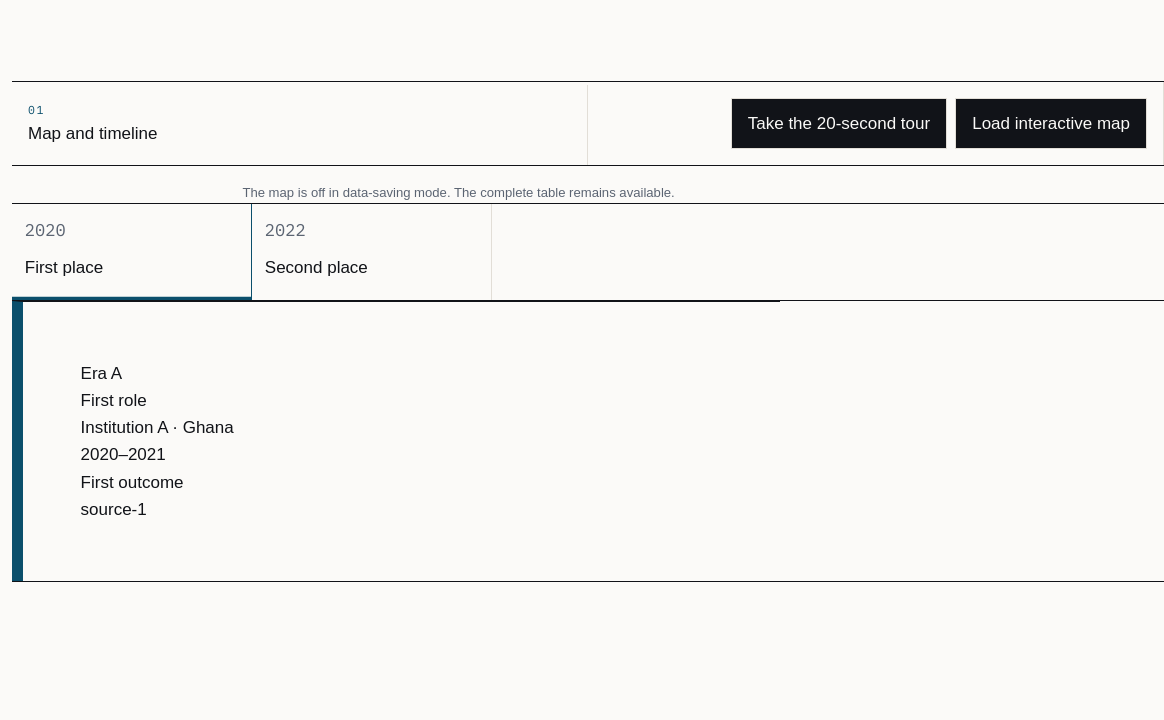
Test: AtlasExplorer › keeps the map opt-in under Lite mode while timeline selection updates detail
This screenshot has width=1164, height=720.
Check: the text "map is off in data-saving mode" is shown, box [242,185,675,200]
Check: the button "Load interactive map" is shown, box [955,98,1147,149]
Click the button "2022 Second place": (372, 252) [252,204,492,300]
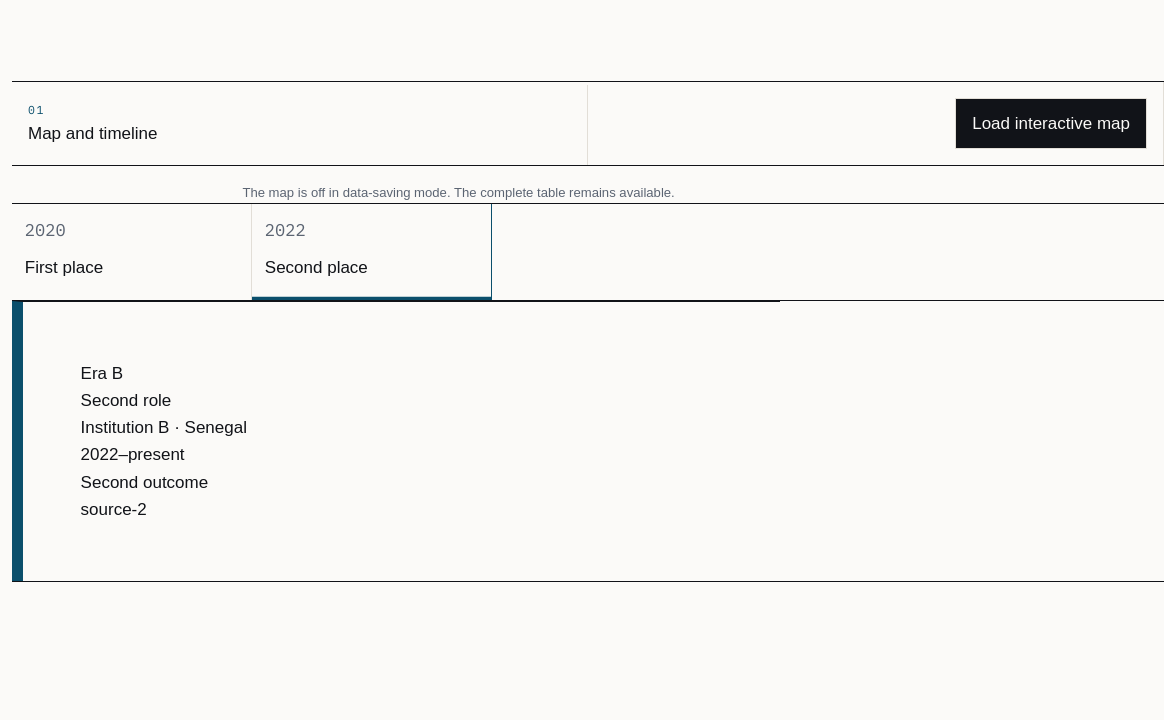
Check: the heading "Second role" is shown, box [81,391,171,410]
Check: the list item "Second outcome" is shown, box [81,472,208,492]
